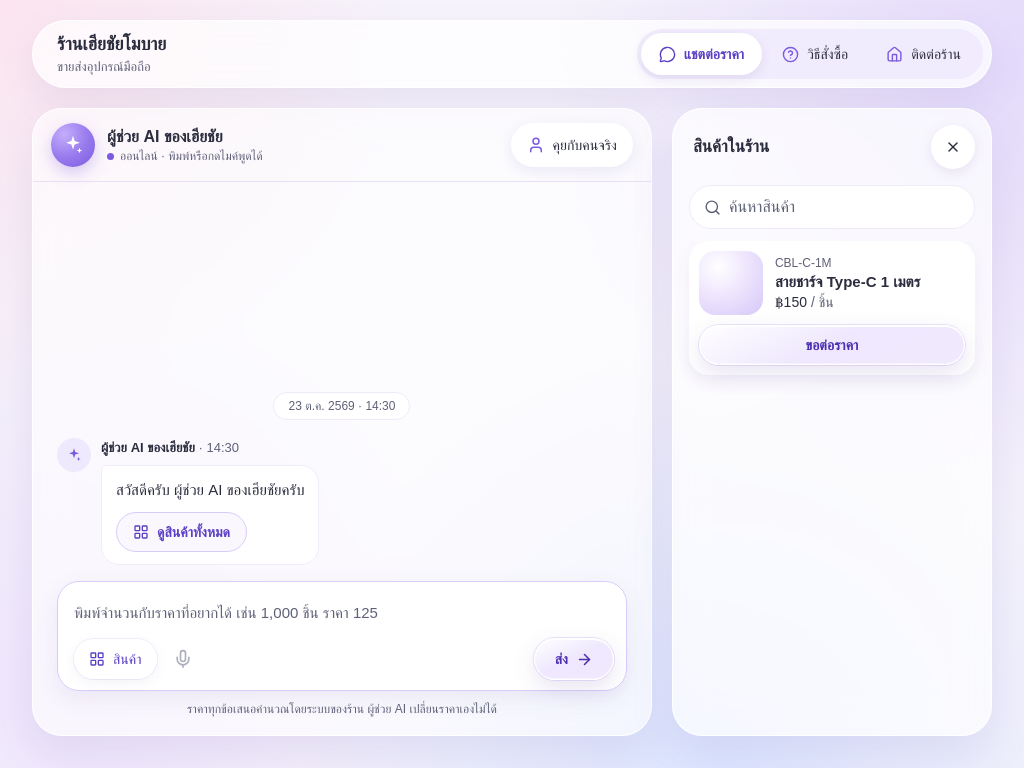
Test: ChatScreen — แชตจริง (ผ่าน API) › โหลดแชตใหม่ชนกับการส่ง (รีวิวรอบ 3) › เถ้าแก่ตอบระหว่างรอคำตอบ AI → ดึงแชตใหม่หลังคำตอบมาถึง ข้อความเถ้าแก่ไม่หาย
In the field named "พิมพ์ข้อความ": (344, 612) [74, 594, 614, 630], type "ขอ 125 ได้ไหม 1000 ชิ้น"
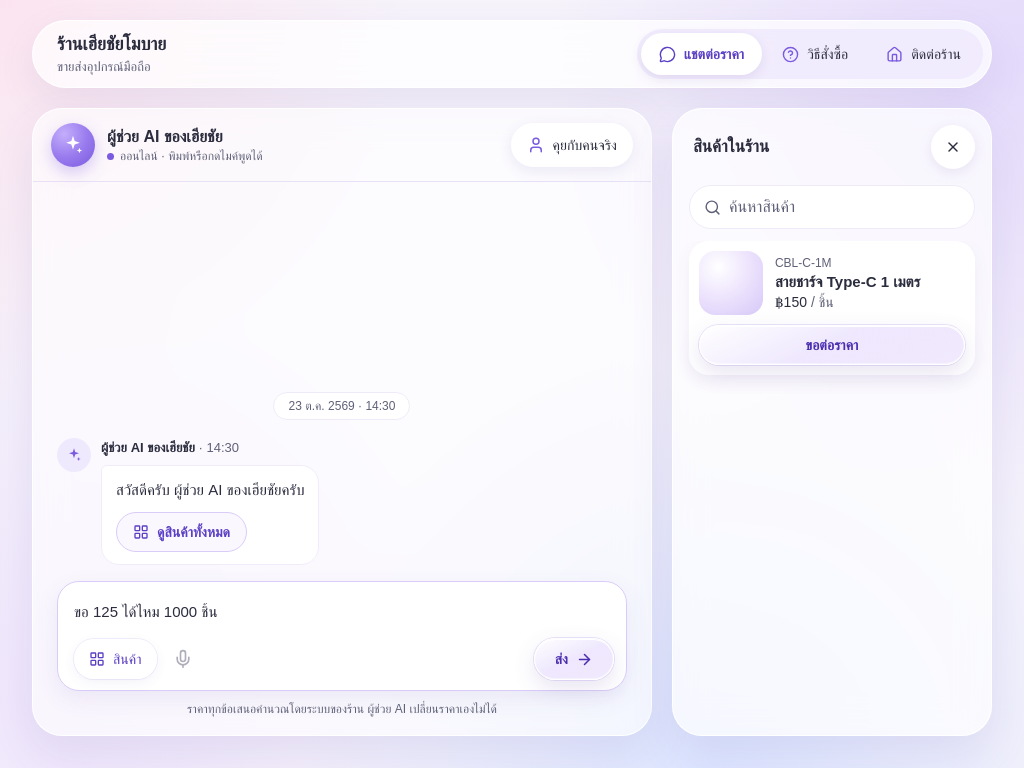
Click the button named "ส่งข้อความ": (574, 659) [534, 638, 614, 680]
Wait 800 ms
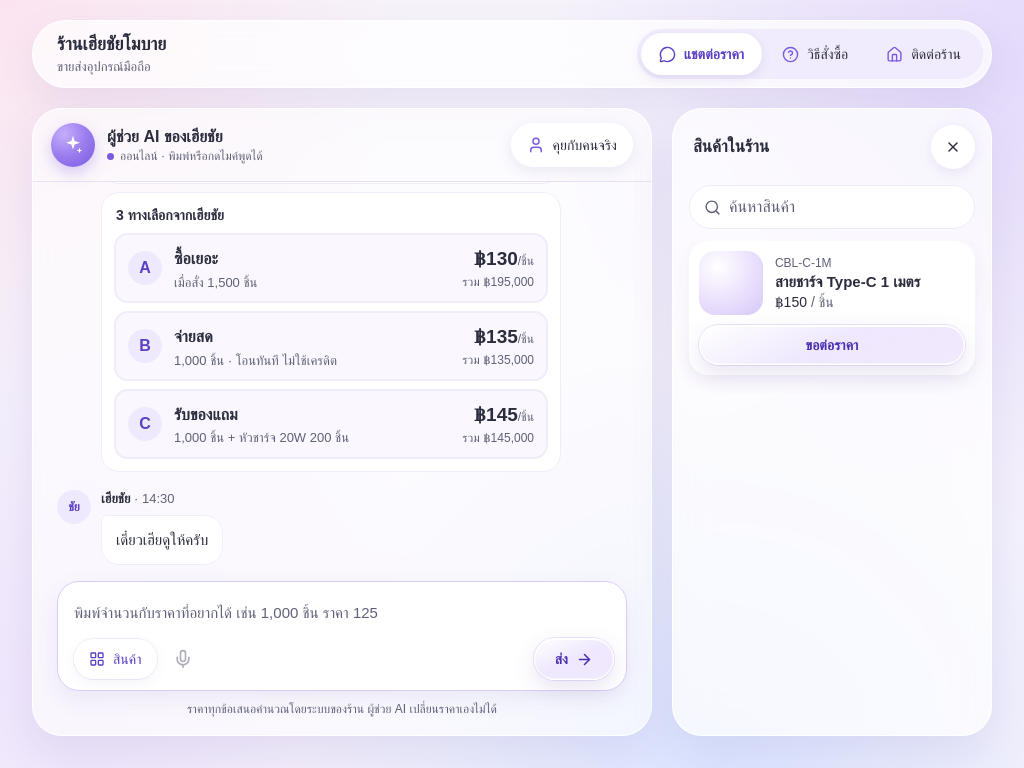
Now the text "เดี๋ยวเฮียดูให้ครับ" is shown, box [101, 515, 223, 565]
